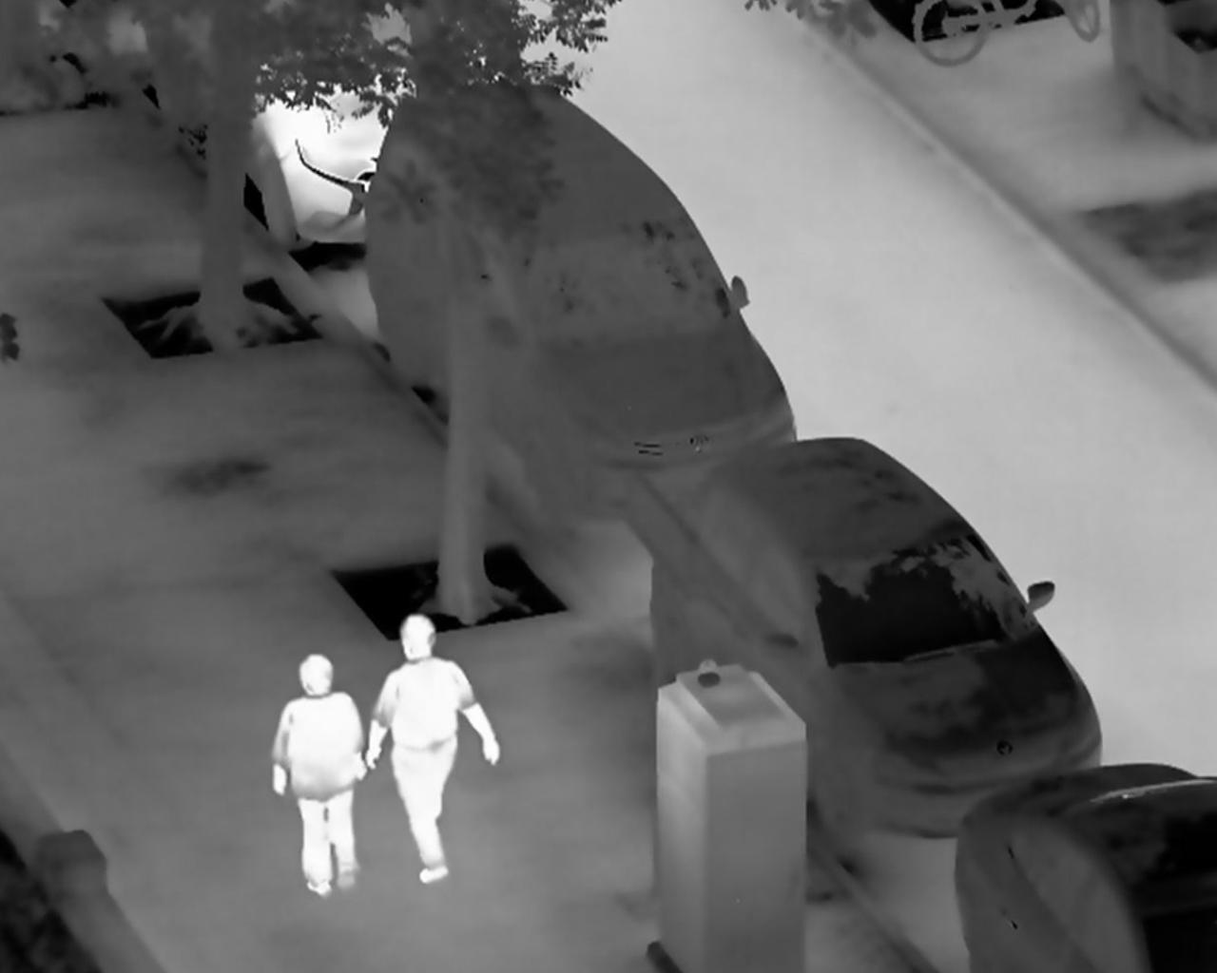person: (362, 616, 506, 884), (270, 652, 368, 899)
